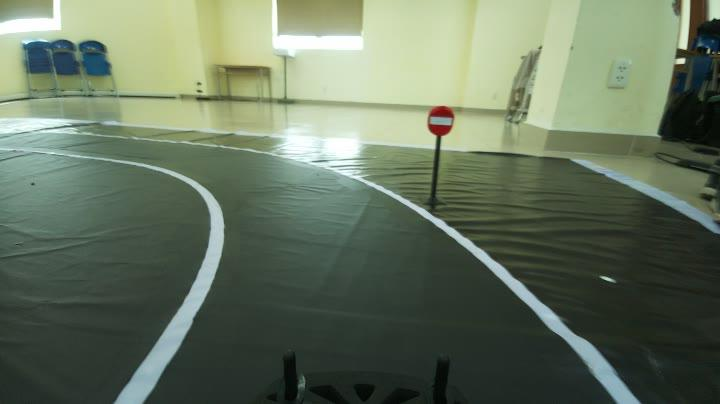no_entry: (420, 96, 466, 140)
